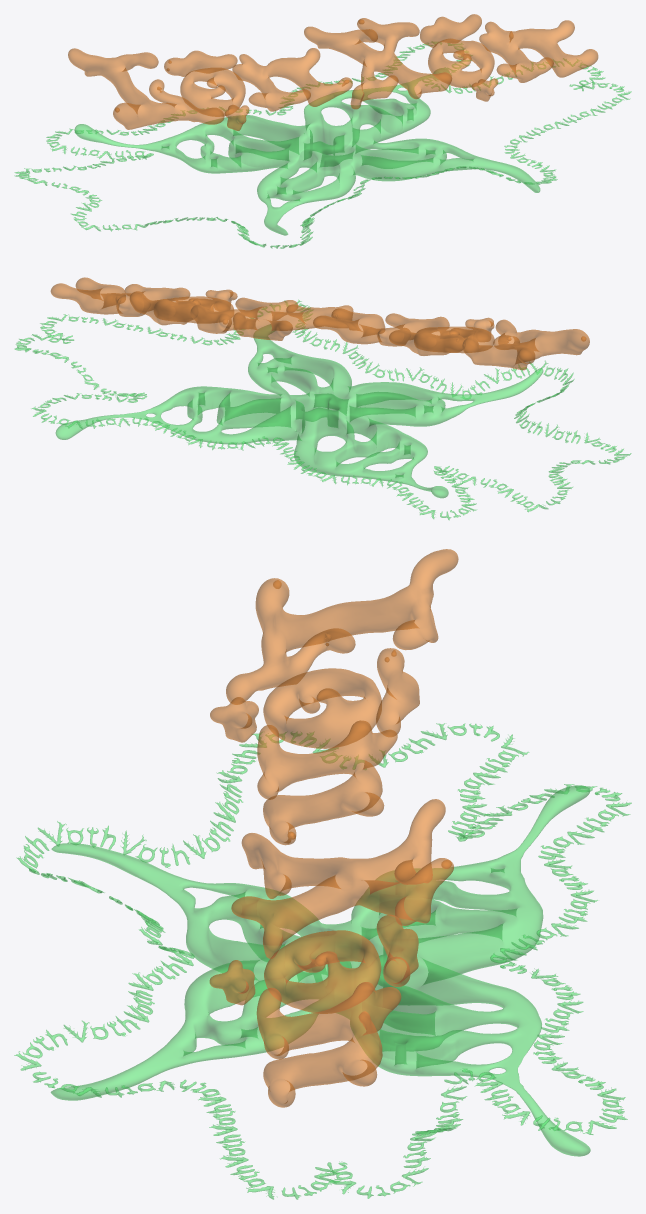
The picture shows the model from 3 angles, top to bottom: view 1: azimuth 30°, elevation 25°; view 2: azimuth 150°, elevation 25°; view 3: azimuth 270°, elevation 25°; orthographic projection. The views are drawn at different scales.
Parts seen in each view (by area): view 1: Curve.003, Cylinder.002, Curve.004; view 2: Cylinder.002, Curve.003, Curve.004; view 3: Curve.003, Cylinder.002, Curve.004.
Part boxes in pixels (box(x1,y1,x2,y2)): Curve.003: box(68, 14, 598, 130); Cylinder.002: box(74, 68, 540, 235); Curve.004: box(14, 41, 631, 248); Cylinder.002: box(55, 324, 543, 498); Curve.003: box(50, 277, 589, 370); Curve.004: box(14, 299, 631, 520); Curve.003: box(209, 549, 458, 1107); Cylinder.002: box(51, 785, 590, 1156); Curve.004: box(14, 723, 631, 1199).
Size of the model in its own units: 10.4 by 2.77 by 5.82.
